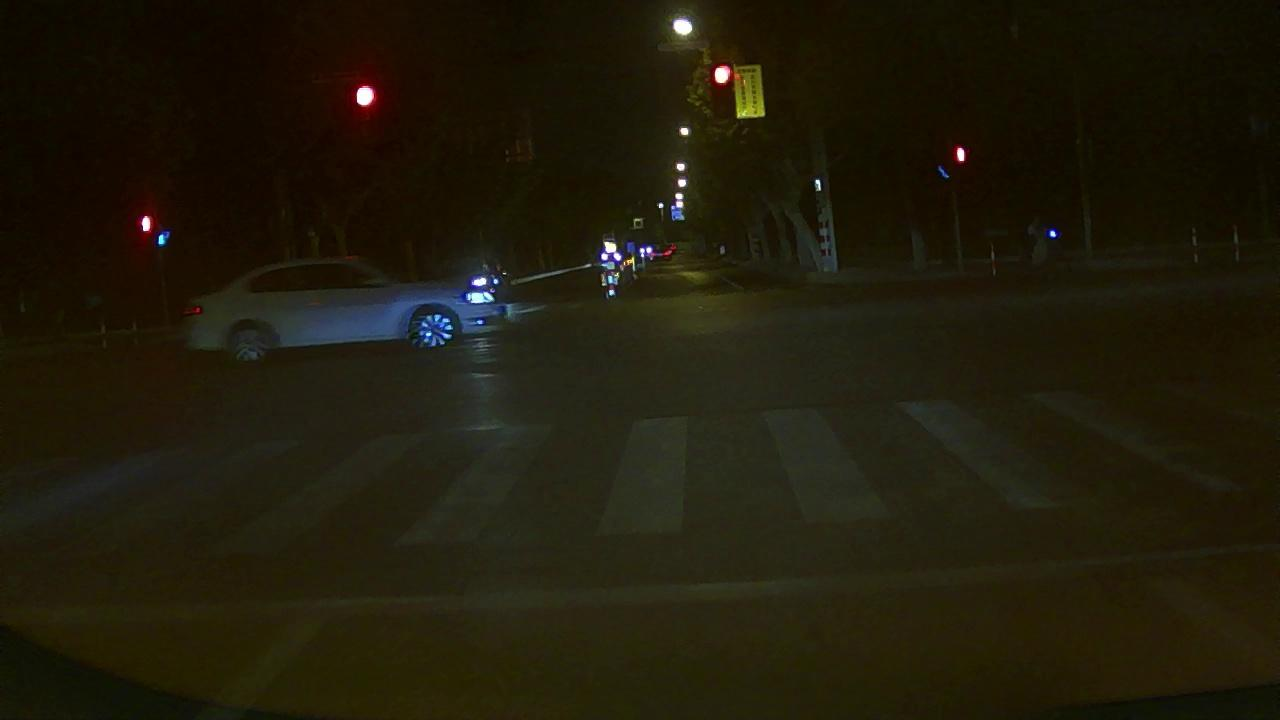traffic_light: (348, 80, 379, 110), (709, 61, 735, 88)
